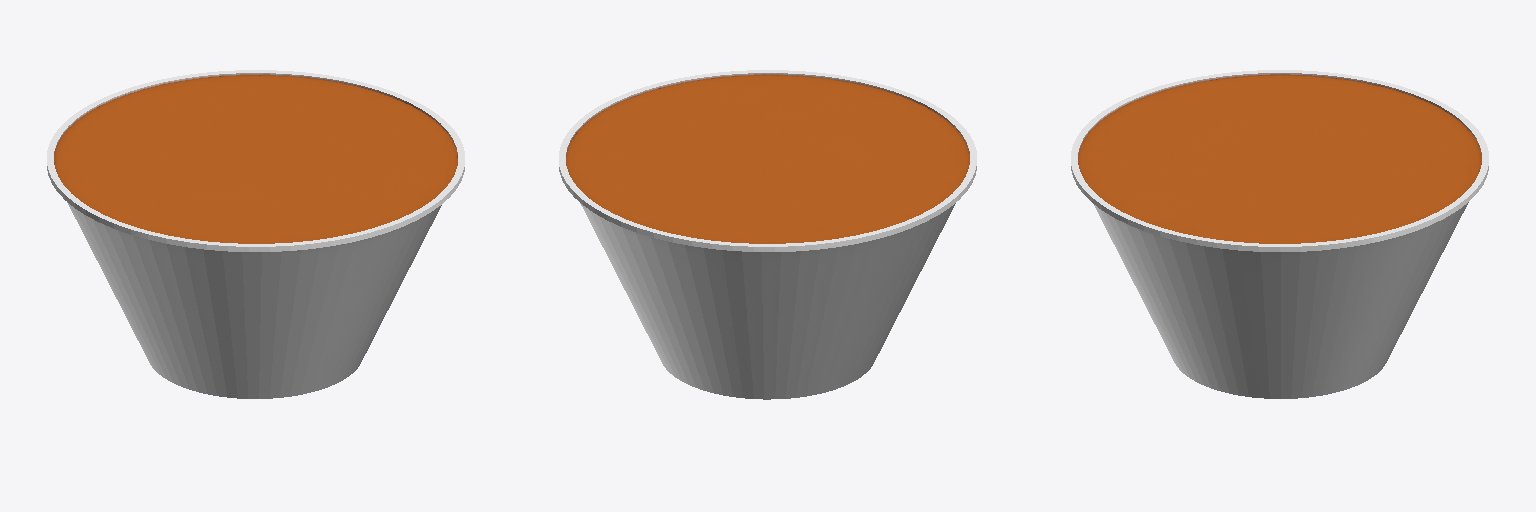
3 views of the same model, side by side, from view 1: azimuth 30°, elevation 25°; view 2: azimuth 150°, elevation 25°; view 3: azimuth 270°, elevation 25° (orthographic).
Visible parts, largest first — view 1: glass_001, solid_001; view 2: glass_001, solid_001; view 3: glass_001, solid_001.
Boxes of the visible parts, box(x1,y1,x2,y2) form: glass_001: box(54, 75, 457, 243); solid_001: box(47, 70, 464, 398); glass_001: box(566, 75, 969, 243); solid_001: box(559, 70, 976, 399); glass_001: box(1078, 75, 1481, 243); solid_001: box(1071, 70, 1488, 398).
Bounding box in the file's own units: 1.13 × 0.5824 × 1.13.
1 materials, 1 textured.